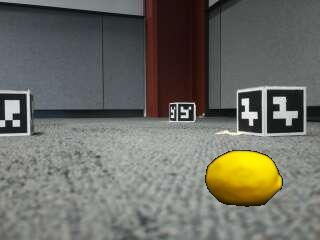lemon: (206, 151, 281, 206)
